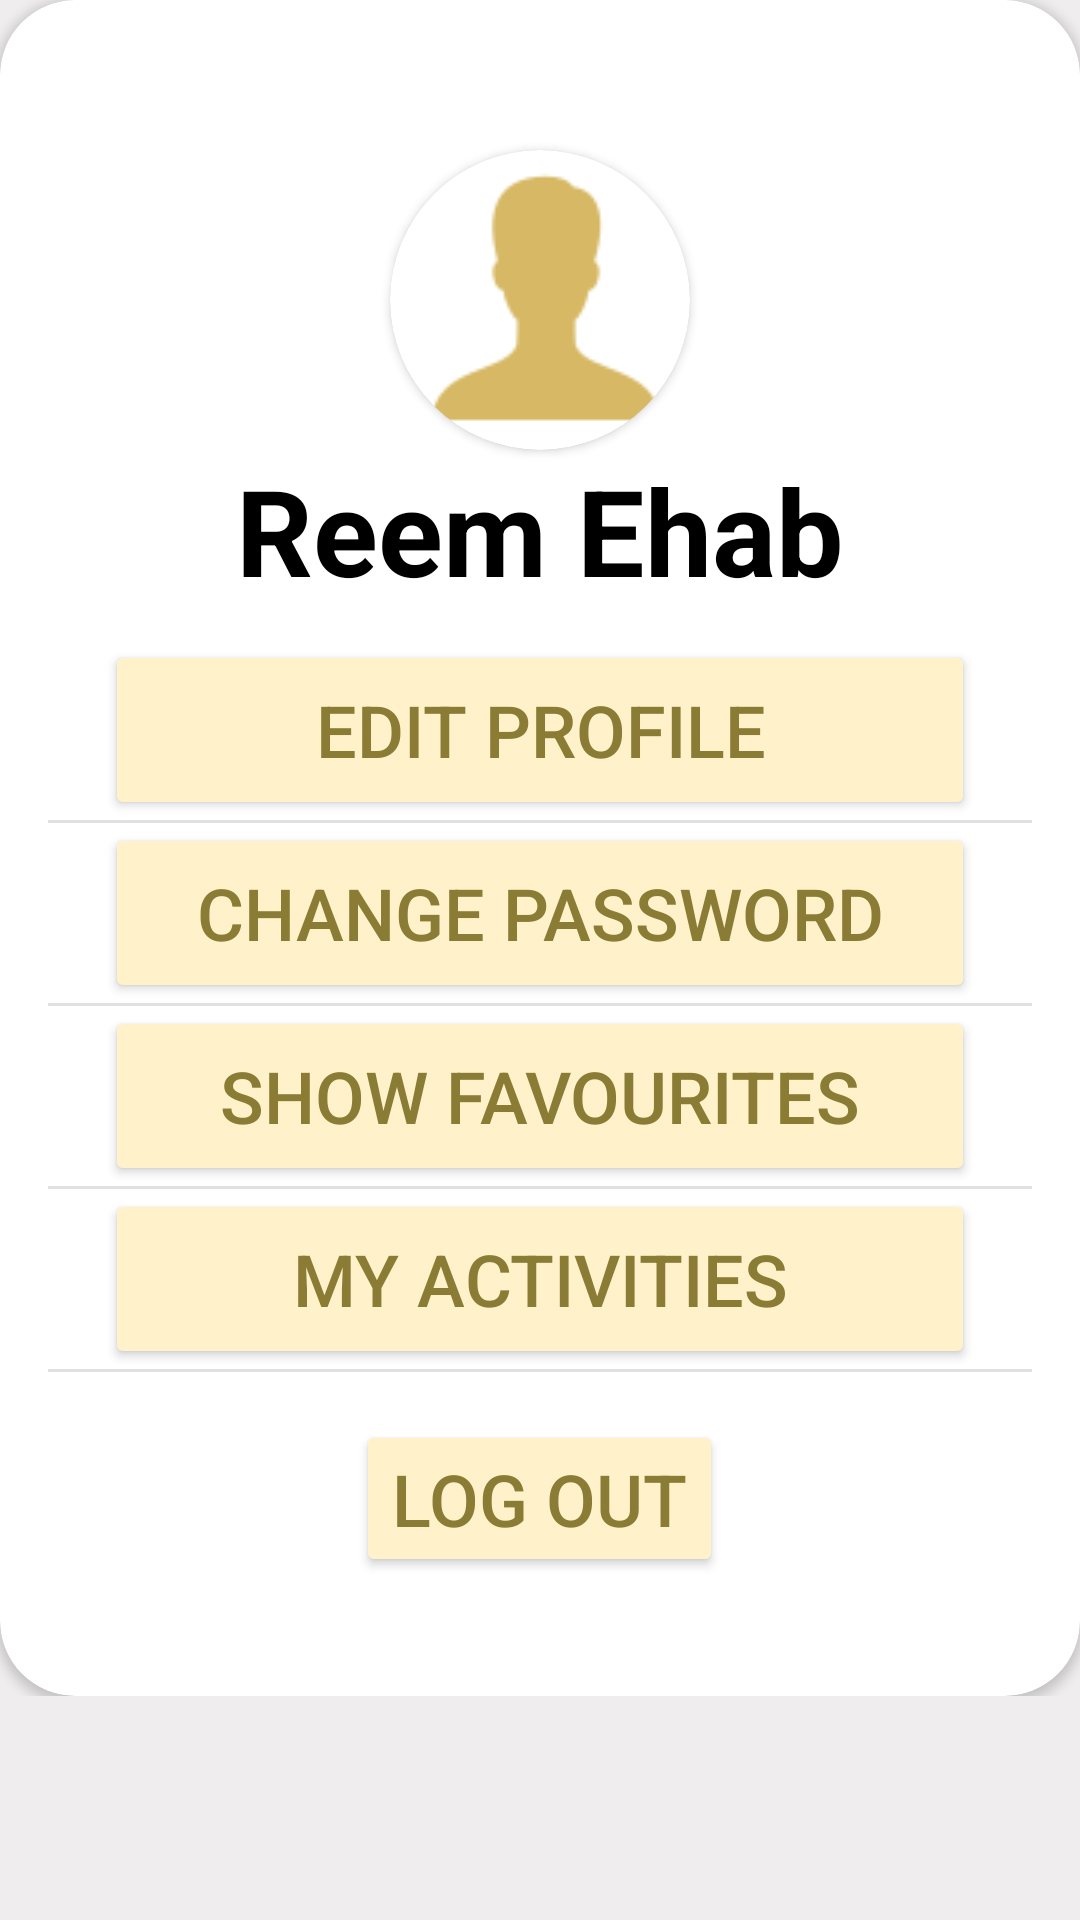

Named icons in this screenshot (1080x1920) and their centers, (x,y):
profile: (540,312)
